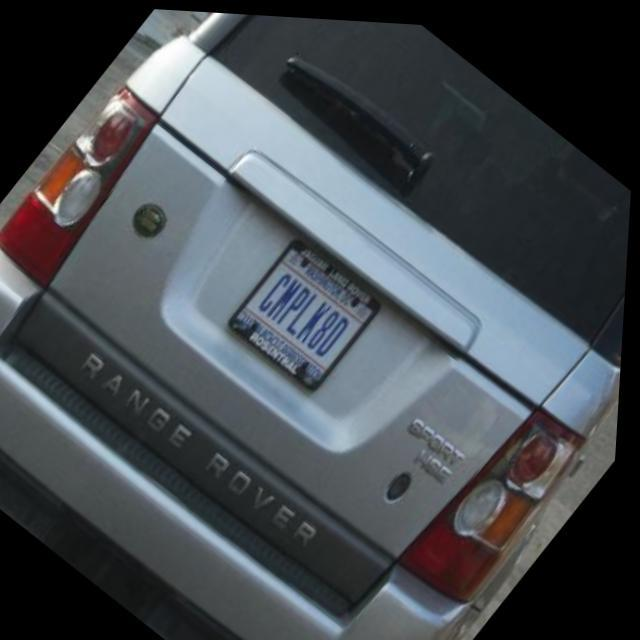license_plate: (226, 228, 390, 392)
